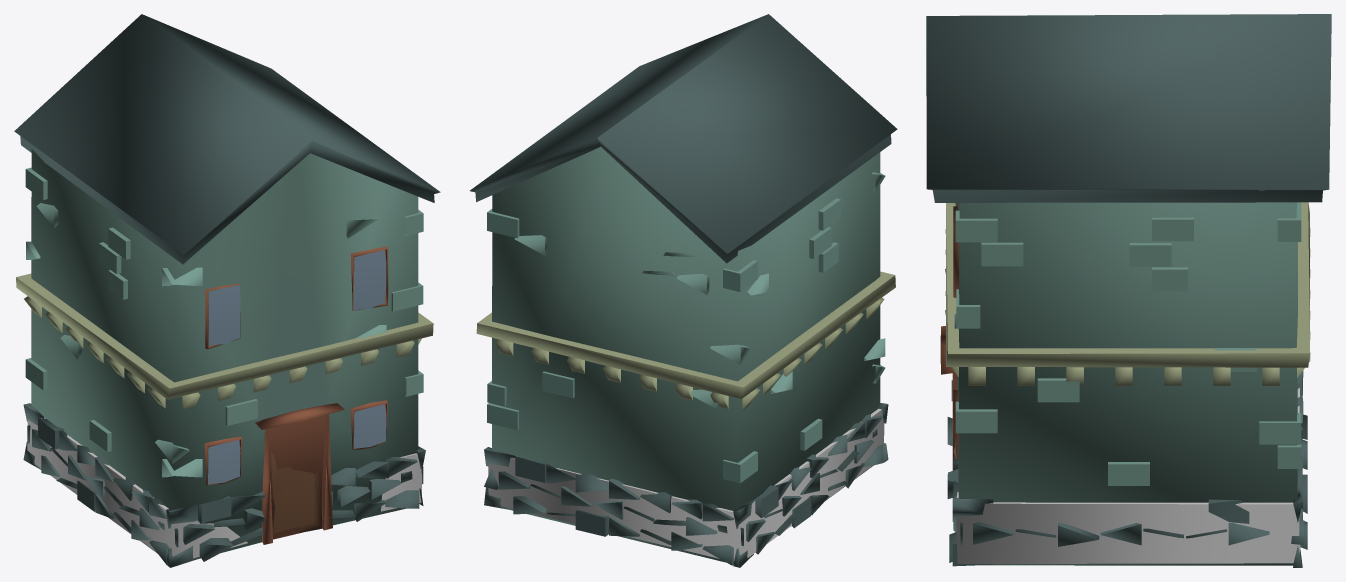
The model's file is small-building-c.low.glb.
3 renders of one model, left to right at view 1: azimuth 30°, elevation 25°; view 2: azimuth 150°, elevation 25°; view 3: azimuth 270°, elevation 25°, orthographic. The views are drawn at different scales.
Parts seen in each view (by area): view 1: 2Story_GableRoof_Mat; view 2: 2Story_GableRoof_Mat; view 3: 2Story_GableRoof_Mat.
Part boxes in pixels (bbox=[...]): 2Story_GableRoof_Mat: bbox=[14, 14, 440, 567]; 2Story_GableRoof_Mat: bbox=[470, 14, 897, 567]; 2Story_GableRoof_Mat: bbox=[926, 14, 1331, 567].
Size of the model in its own units: 2.15 by 3.12 by 2.38.
